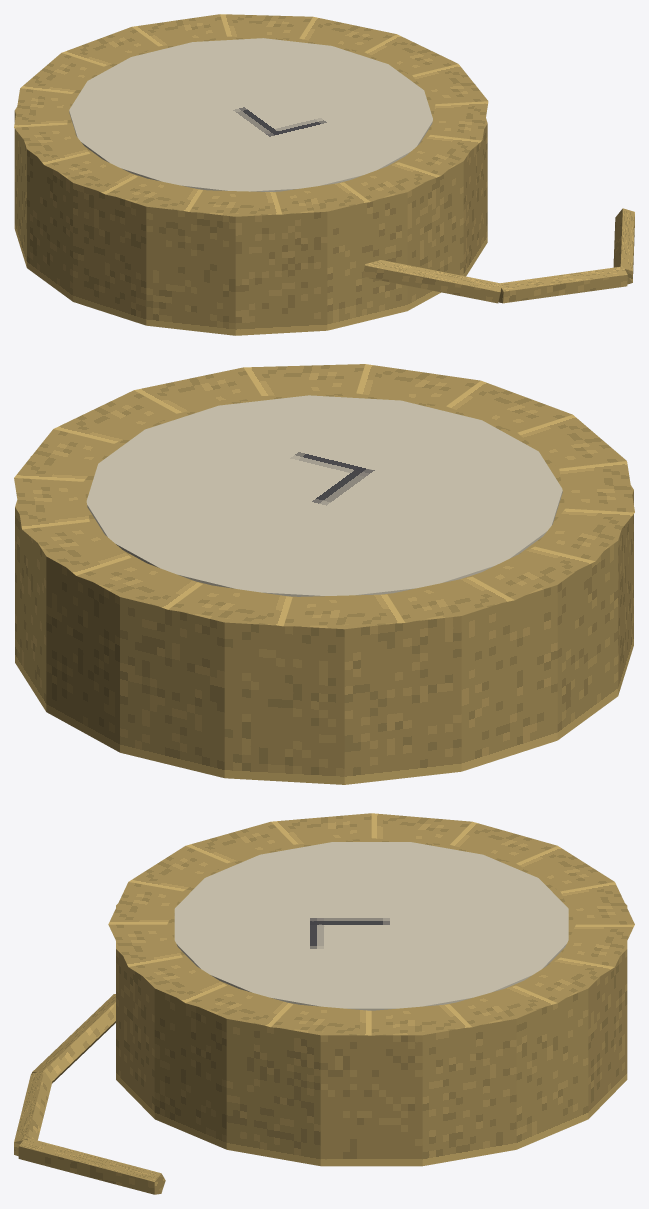
Rendered from pocketwatch.glb.
The picture shows the model from 3 angles, top to bottom: view 1: azimuth 30°, elevation 25°; view 2: azimuth 150°, elevation 25°; view 3: azimuth 270°, elevation 25°; orthographic projection. The views are drawn at different scales.
Parts seen in each view (by area): view 1: block_watch body, block_dial, block_watch hands, block_watch chain 0, block_watch chain 1, block_polished bezel 5, block_polished bezel 13, block_polished bezel 4, block_polished bezel 3, block_polished bezel 11, block_polished bezel 12, block_polished bezel 14 (+10 smaller); view 2: block_watch body, block_dial, block_watch hands, block_polished bezel 3, block_polished bezel 10, block_polished bezel 9, block_polished bezel 2, block_polished bezel 1, block_polished bezel 12, block_polished bezel 4, block_polished bezel 0, block_polished bezel 8 (+7 smaller); view 3: block_watch body, block_dial, block_watch hands, block_watch chain 2, block_polished bezel 0, block_polished bezel 7, block_polished bezel 8, block_polished bezel 15, block_polished bezel 6, block_polished bezel 1, block_polished bezel 3, block_polished bezel 9 (+10 smaller).
Boxes of the visible parts, bbox=[...] form: block_watch body: bbox=[14, 36, 487, 335]; block_dial: bbox=[69, 38, 432, 191]; block_watch hands: bbox=[168, 86, 380, 177]; block_watch chain 0: bbox=[362, 260, 501, 303]; block_watch chain 1: bbox=[498, 266, 627, 303]; block_polished bezel 5: bbox=[189, 190, 282, 214]; block_polished bezel 13: bbox=[220, 14, 312, 38]; block_polished bezel 4: bbox=[275, 182, 370, 214]; block_polished bezel 3: bbox=[344, 162, 440, 201]; block_polished bezel 11: bbox=[61, 27, 157, 66]; block_polished bezel 12: bbox=[132, 14, 226, 46]; block_polished bezel 14: bbox=[299, 16, 396, 51]; block_watch body: bbox=[15, 393, 633, 784]; block_dial: bbox=[86, 395, 562, 596]; block_watch hands: bbox=[219, 411, 497, 530]; block_polished bezel 3: bbox=[356, 364, 480, 406]; block_polished bezel 10: bbox=[284, 594, 405, 626]; block_polished bezel 9: bbox=[387, 576, 514, 622]; block_polished bezel 2: bbox=[243, 364, 365, 395]; block_polished bezel 1: bbox=[134, 367, 261, 413]; block_polished bezel 12: bbox=[76, 557, 202, 609]; block_polished bezel 4: bbox=[446, 380, 572, 432]; block_polished bezel 0: bbox=[54, 390, 175, 443]; block_polished bezel 8: bbox=[473, 546, 595, 599]; block_watch body: bbox=[116, 838, 627, 1166]; block_dial: bbox=[174, 842, 568, 1010]; block_watch hands: bbox=[229, 887, 404, 958]; block_watch chain 2: bbox=[18, 1137, 165, 1194]; block_polished bezel 0: bbox=[271, 1004, 371, 1035]; block_polished bezel 7: bbox=[271, 813, 371, 844]; block_polished bezel 8: bbox=[371, 813, 471, 844]; block_polished bezel 15: bbox=[371, 1004, 471, 1035]; block_polished bezel 6: bbox=[185, 821, 292, 863]; block_polished bezel 1: bbox=[186, 985, 292, 1027]; block_polished bezel 3: bbox=[108, 924, 182, 966]; block_polished bezel 9: bbox=[450, 821, 557, 863].
Bounding box in the file's own units: 0.056 × 0.0133 × 0.0556.
Materials: 1 (1 with a texture image).
